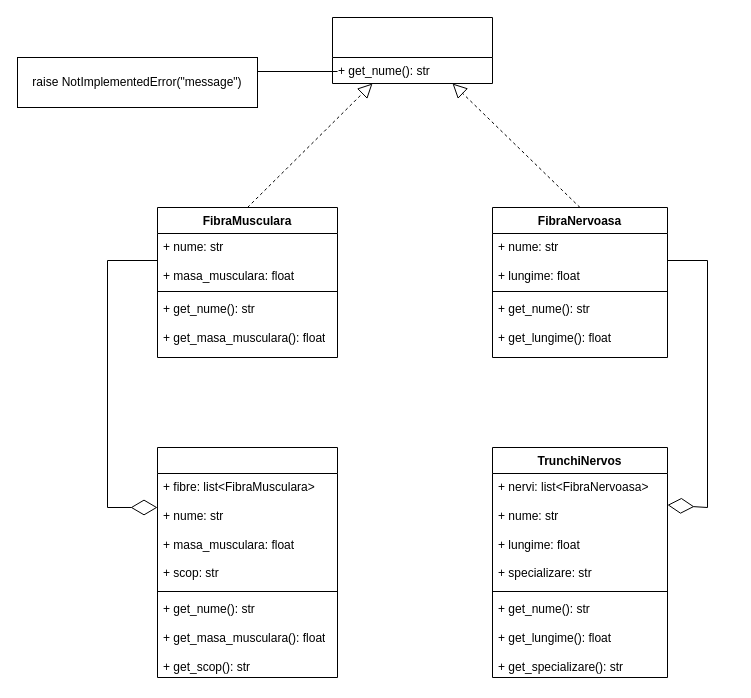
This 751x698 diagram has some shape labels left out. Here are the shapes that lost their labels. From the top down, the box of each, then its label:
(332, 16, 492, 84): <<Interface>> Celula
(156, 446, 338, 678): MuschiGeneric
